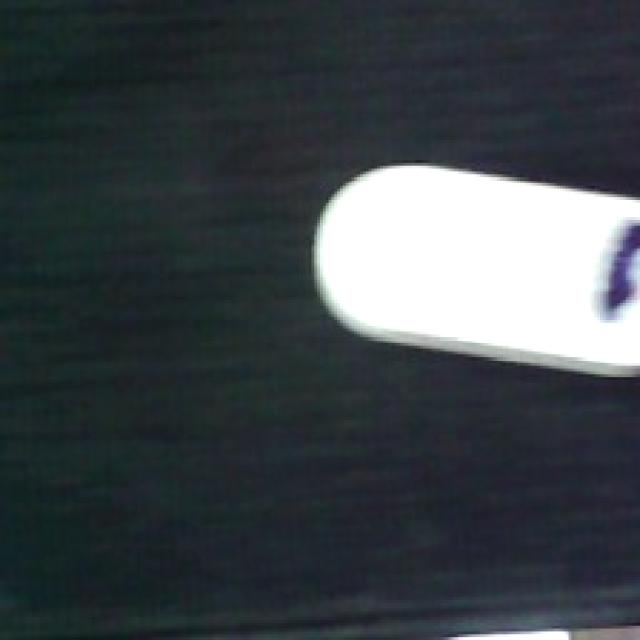defected: (309, 160, 640, 380)
